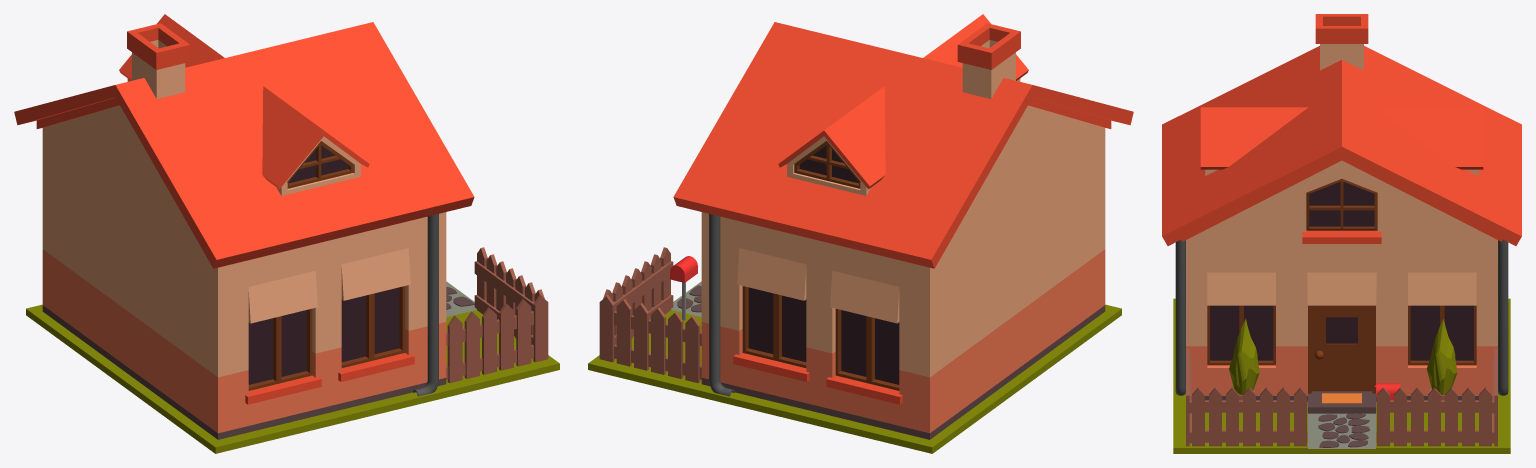
Rendered from PublicBuilding_3.glb.
3 renders of one model, left to right at view 1: azimuth 30°, elevation 25°; view 2: azimuth 150°, elevation 25°; view 3: azimuth 270°, elevation 25°, orthographic. The views are drawn at different scales.
Parts seen in each view (by area): view 1: PublicBuilding_3; view 2: PublicBuilding_3; view 3: PublicBuilding_3.
Part boxes in pixels (box(x1,y1,x2,y2)): PublicBuilding_3: box(14, 14, 559, 453); PublicBuilding_3: box(588, 14, 1133, 453); PublicBuilding_3: box(1162, 14, 1521, 453).
Size of the model in its own units: 0.0368 by 0.0339 by 0.0369.
1 material, 1 textured.
